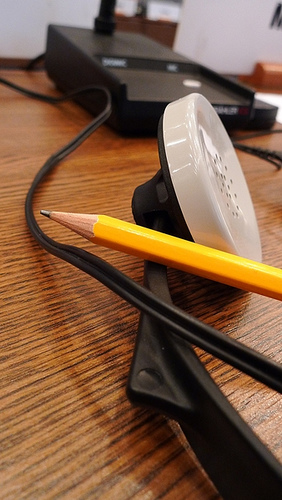pen_tip: (37, 207, 124, 241)
